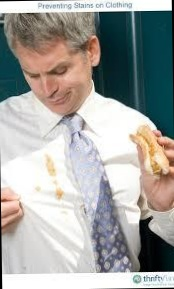mustard: (41, 147, 60, 182), (52, 187, 62, 201), (36, 185, 41, 191)
